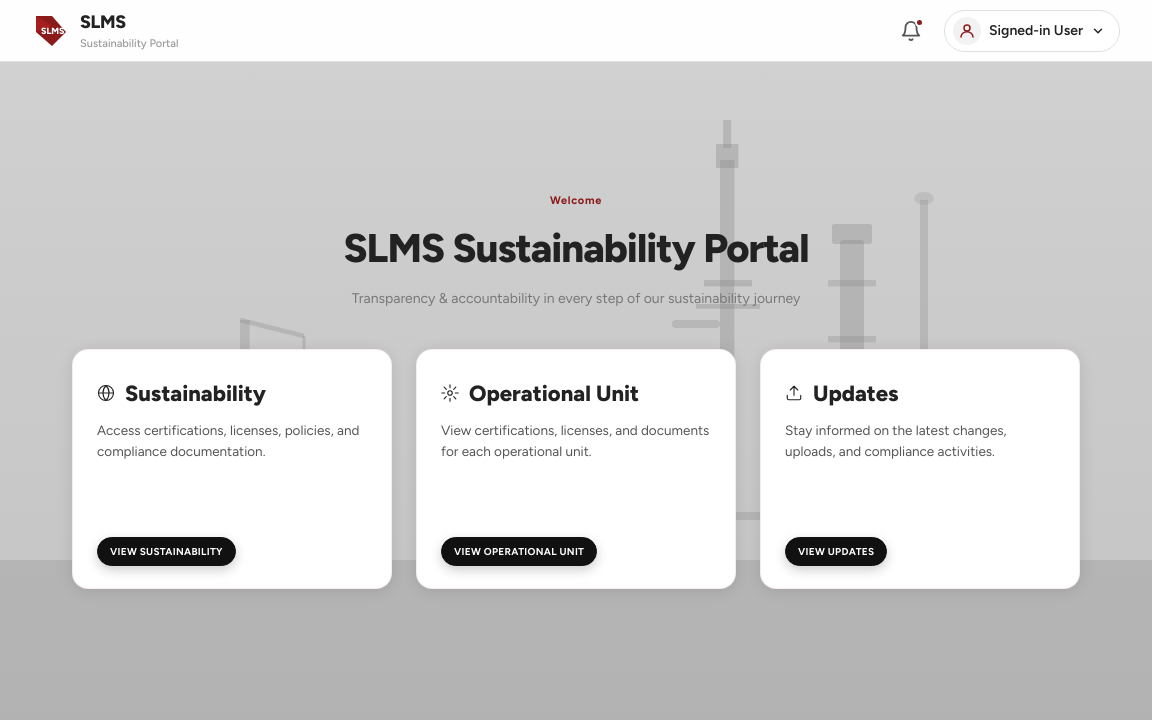
Test: SustainabilityPortal › switches between list and grid document views
The image size is (1152, 720).
Click the heading "Sustainability".
click(196, 393)  # box left=125, top=377, right=266, bottom=410
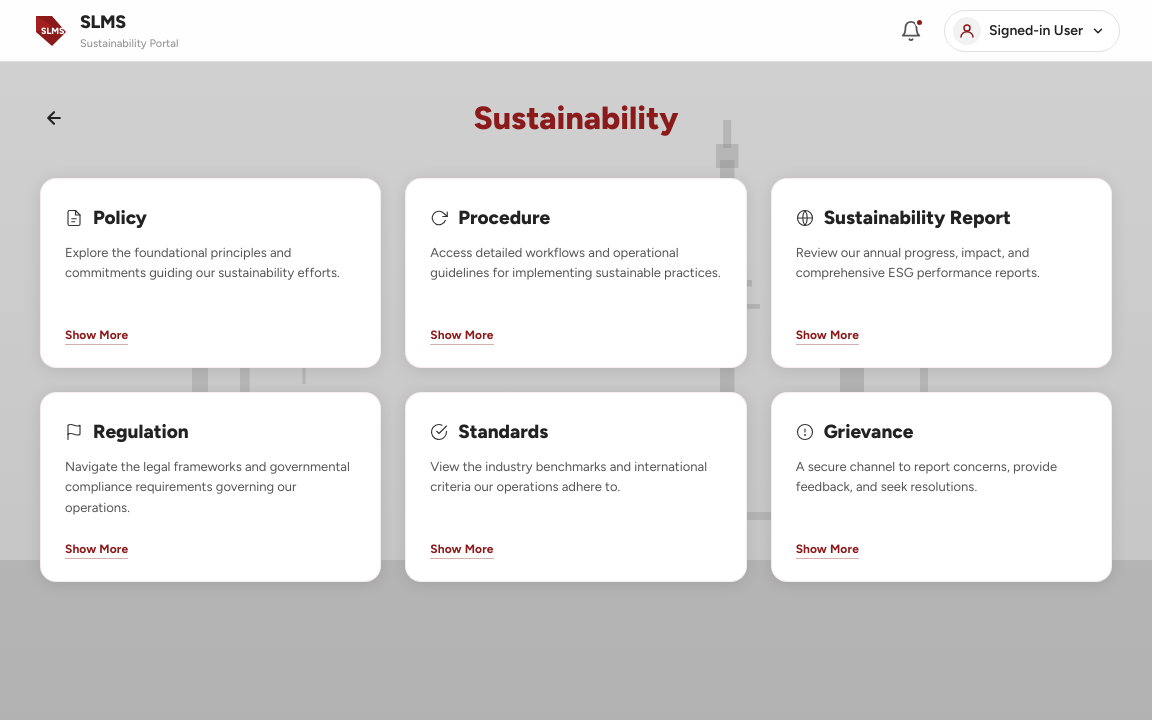
Click the heading "Policy".
click(120, 218)  # box left=93, top=204, right=147, bottom=232
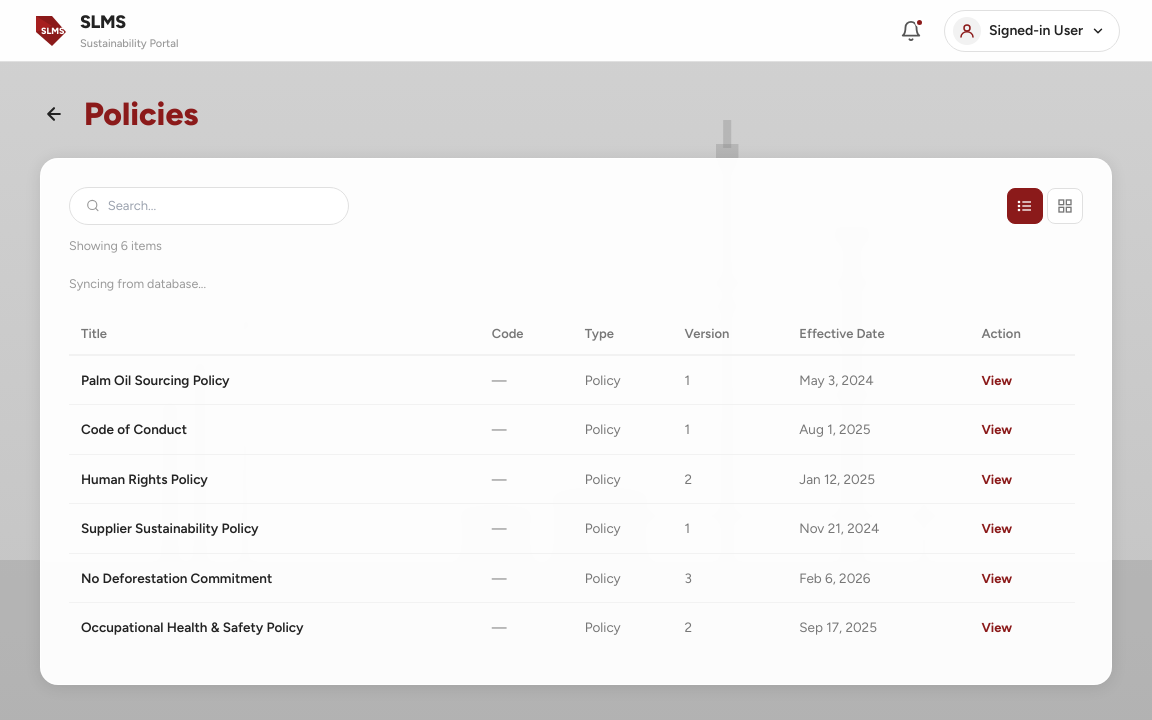
Now the table is shown, box left=69, top=314, right=1075, bottom=652
Click the button named "Switch to grid view".
click(1065, 206)  # box left=1047, top=188, right=1083, bottom=224
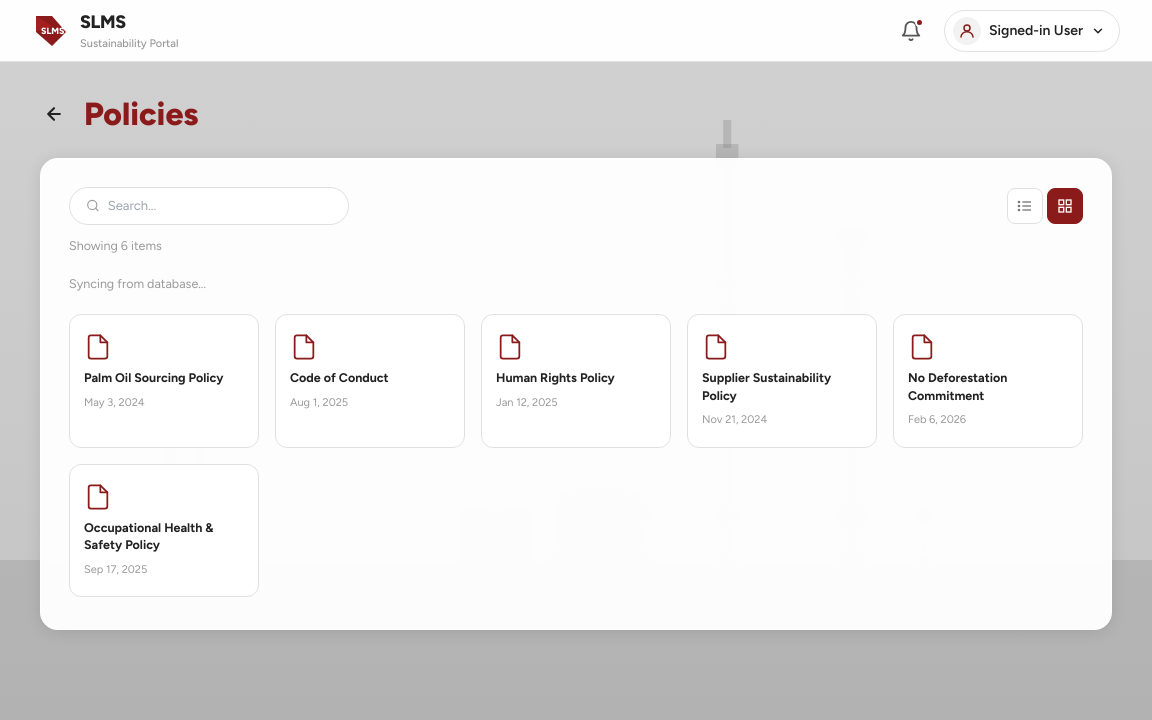
Now the text "Code of Conduct" is shown, box left=290, top=369, right=389, bottom=386
Now the table is gone
Click the button named "Switch to list view".
click(1025, 206)  # box left=1007, top=188, right=1043, bottom=224
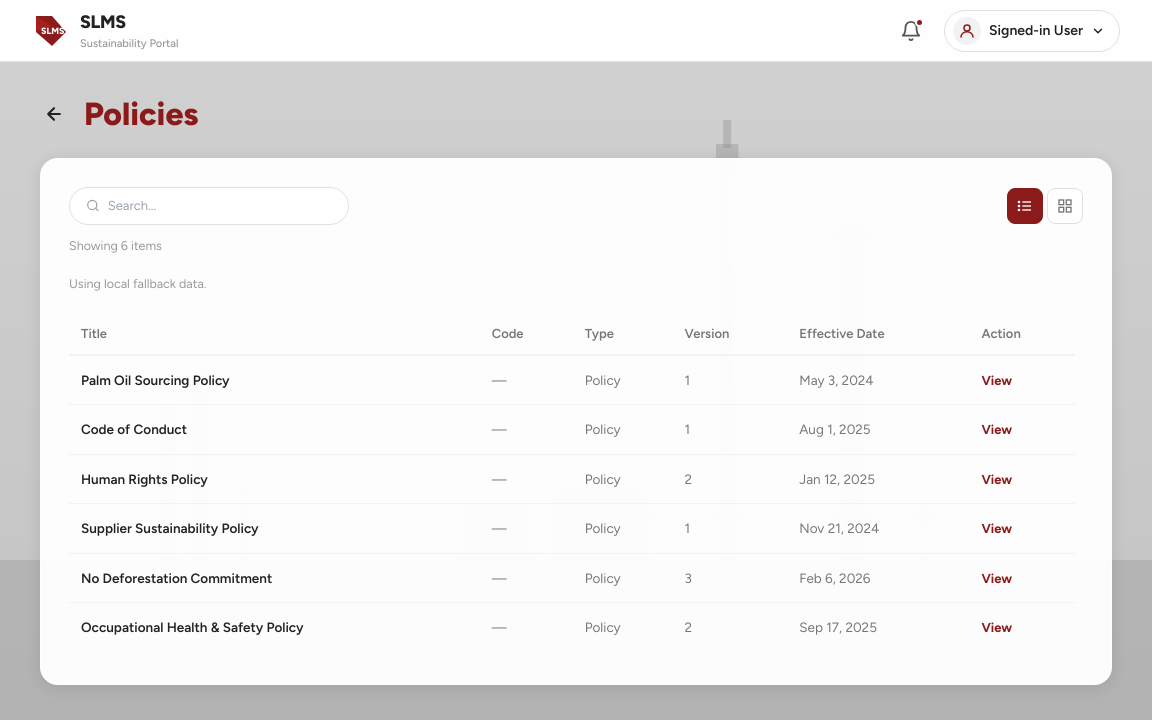
Now the table is shown, box left=69, top=314, right=1075, bottom=652
